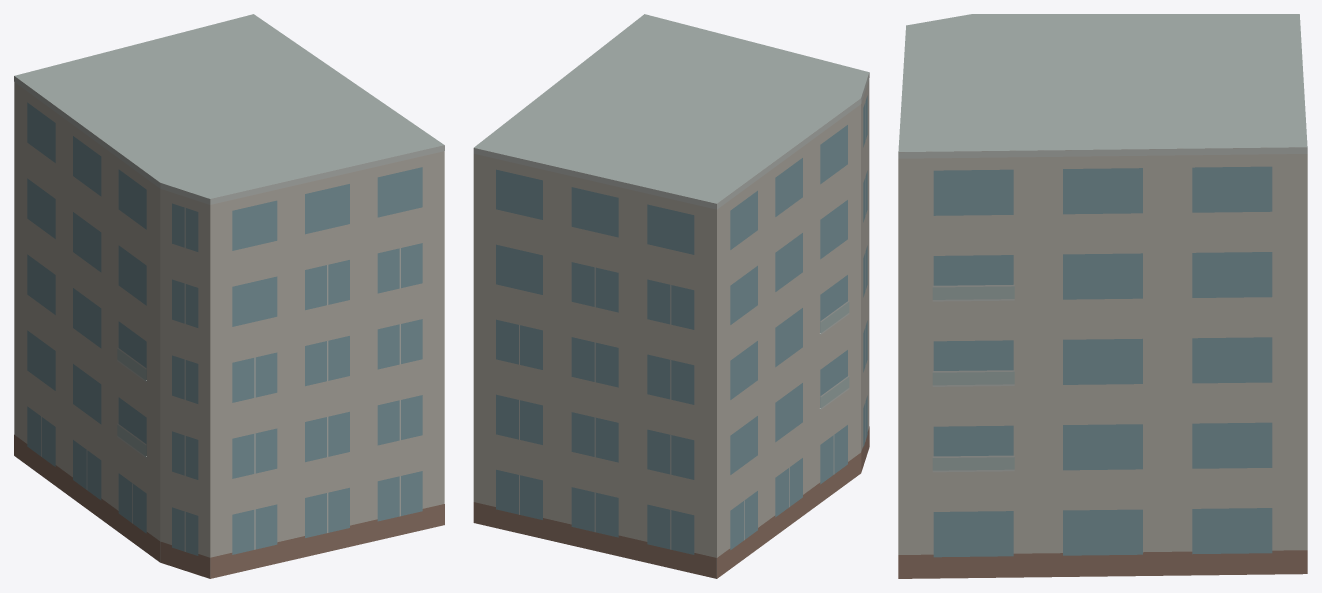
The model's file is survey-upis-32836694.glb.
3 views of the same model, side by side, from view 1: azimuth 30°, elevation 25°; view 2: azimuth 150°, elevation 25°; view 3: azimuth 270°, elevation 25° (orthographic). The views are drawn at different scales.
Visible parts, largest first — view 1: survey-upis-32836694.tmp; view 2: survey-upis-32836694.tmp; view 3: survey-upis-32836694.tmp.
Boxes of the visible parts, box(x1,y1,x2,y2) form: survey-upis-32836694.tmp: box(14, 14, 444, 578); survey-upis-32836694.tmp: box(473, 14, 869, 578); survey-upis-32836694.tmp: box(898, 14, 1307, 578).
Size of the model in its own units: 10.87 by 15.6 by 13.57.
